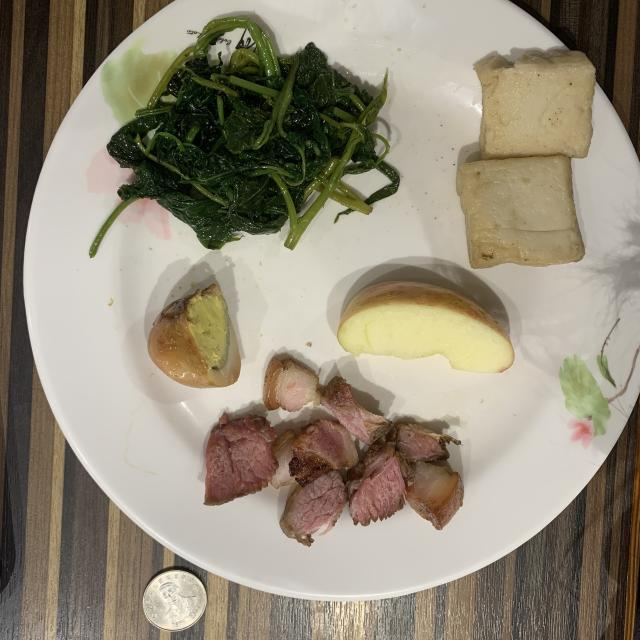apple -sliced-: (338, 281, 514, 372)
coin: (142, 570, 206, 631)
creamy tofu -without sauce-: (456, 50, 595, 269)
grilled pork: (205, 358, 464, 545)
soy egg: (148, 284, 241, 388)
sweet potato leaves: (90, 16, 399, 258)
